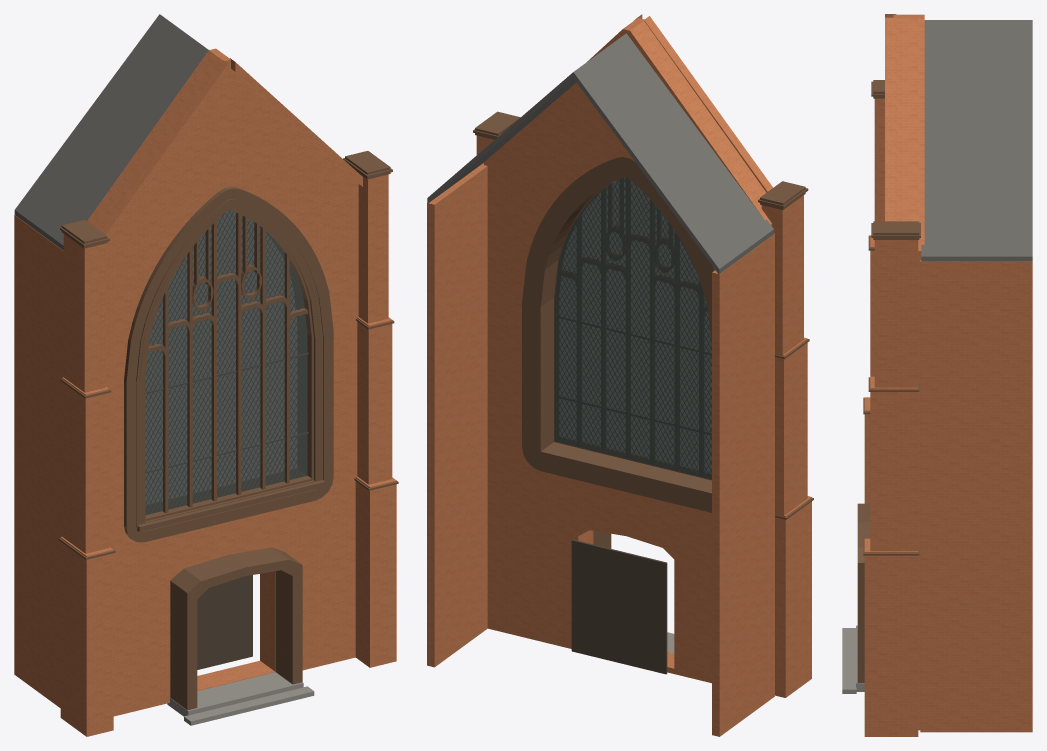
Rendered from xuhui-community-church-garden-tracery.fbx.
3 renders of one model, left to right at view 1: azimuth 30°, elevation 25°; view 2: azimuth 150°, elevation 25°; view 3: azimuth 270°, elevation 25°, orthographic. The views are drawn at different scales.
Visible parts, largest first — view 1: street gable / brick wall and continuous openings, seven lights / translucent glazing, left / first return wall, pointed arch / outer stone surround, seven lights / continuous diamond lead lattice, left / short return roof slope, seven lights / mullions, crowns and paired cusps, left buttress / brick stage 1, historical doorway / masonry hood, left buttress / brick stage 2, right buttress / brick stage 1, left buttress / brick stage 3 (+13 smaller); view 2: street gable / brick wall and continuous openings, seven lights / translucent glazing, left / first return wall, right / first return wall, left / short return roof slope, pointed arch / outer stone surround, historical doorway / dark recessed door, left buttress / brick stage 1, left buttress / brick stage 2, left buttress / brick stage 3, right / short return roof slope, left / projecting brick rake coping (+3 smaller); view 3: right / first return wall, right / short return roof slope, right buttress / brick stage 1, right buttress / brick stage 2, street gable / brick wall and continuous openings, right buttress / brick stage 3, right / projecting brick rake coping, historical doorway / masonry hood, left buttress / brick stage 3, historical doorway / step 1, right buttress / stone coping, left buttress / brick stage 1 (+1 smaller).
Boxes of the visible parts, box(x1,y1,x2,y2) form: street gable / brick wall and continuous openings: box(87, 48, 358, 716); seven lights / translucent glazing: box(145, 210, 307, 514); left / first return wall: box(14, 215, 63, 707); pointed arch / outer stone surround: box(124, 186, 333, 542); seven lights / continuous diamond lead lattice: box(145, 210, 307, 514); left / short return roof slope: box(14, 14, 208, 250); seven lights / mullions, crowns and paired cusps: box(148, 212, 308, 513); left buttress / brick stage 1: box(60, 537, 113, 736); historical doorway / masonry hood: box(170, 547, 302, 710); left buttress / brick stage 2: box(62, 377, 109, 553); right buttress / brick stage 1: box(355, 476, 396, 667); left buttress / brick stage 3: box(63, 234, 105, 392); street gable / brick wall and continuous openings: box(484, 18, 771, 683); seven lights / translucent glazing: box(555, 177, 711, 479); left / first return wall: box(712, 233, 774, 736); right / first return wall: box(427, 163, 487, 667); left / short return roof slope: box(573, 33, 773, 274); pointed arch / outer stone surround: box(522, 157, 714, 512); historical doorway / dark recessed door: box(571, 539, 667, 674); left buttress / brick stage 1: box(775, 496, 811, 697); left buttress / brick stage 2: box(775, 337, 807, 515); left buttress / brick stage 3: box(761, 195, 803, 355); right / short return roof slope: box(427, 72, 576, 203); left / projecting brick rake coping: box(644, 16, 772, 192); right / first return wall: box(920, 260, 1032, 732); right / short return roof slope: box(921, 20, 1032, 261); right buttress / brick stage 1: box(864, 538, 918, 736); right buttress / brick stage 2: box(870, 376, 918, 551); street gable / brick wall and continuous openings: box(893, 14, 924, 730); right buttress / brick stage 3: box(874, 240, 918, 387); right / projecting brick rake coping: box(885, 17, 896, 221); historical doorway / masonry hood: box(857, 503, 870, 682); left buttress / brick stage 3: box(874, 98, 884, 221); historical doorway / step 1: box(842, 628, 856, 693); right buttress / stone coping: box(873, 221, 919, 239); left buttress / brick stage 1: box(864, 397, 870, 503).
Bounding box in the file's own units: 9.11 × 17.61 × 4.69.
7 materials, 2 textured.
